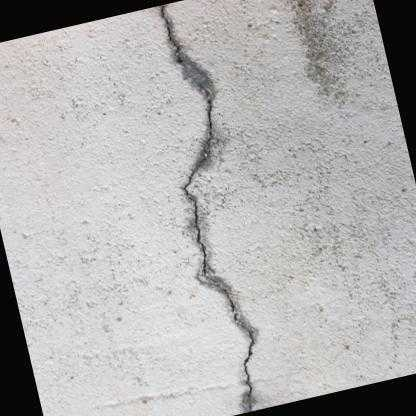crack: (159, 5, 253, 413)
